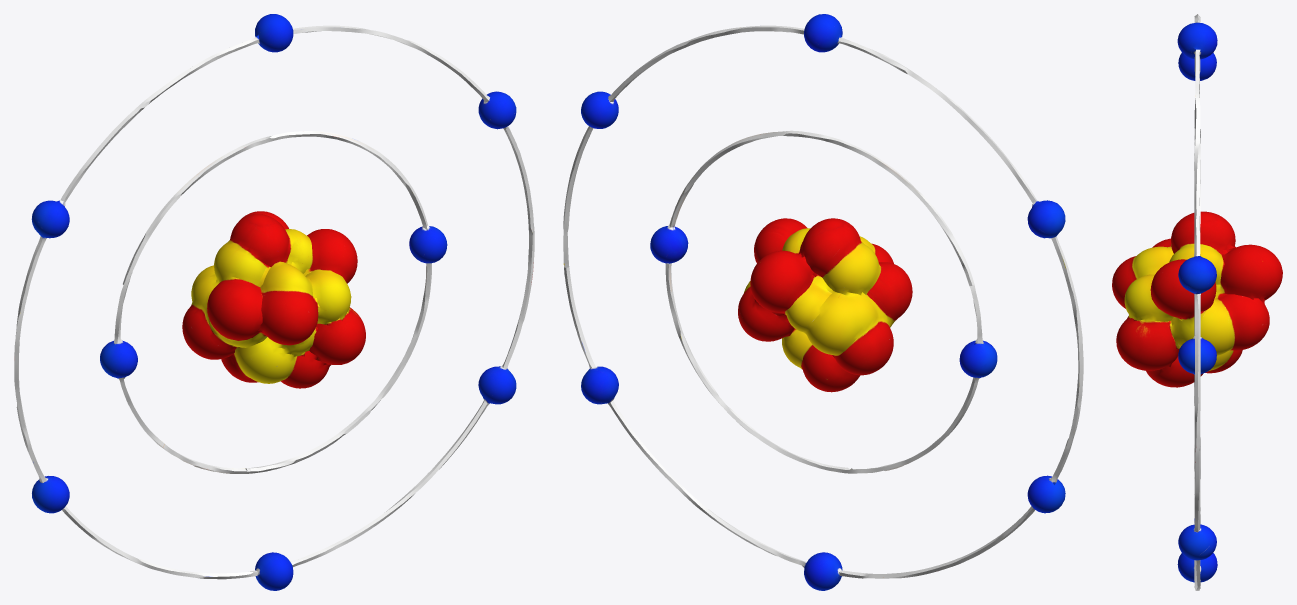
File: Meshy_AI_Oxygen_atom_0407061944_texture.fbx
The picture shows the model from 3 angles, left to right: view 1: azimuth 30°, elevation 25°; view 2: azimuth 150°, elevation 25°; view 3: azimuth 270°, elevation 25°; orthographic projection. The views are drawn at different scales.
Parts seen in each view (by area): view 1: output; view 2: output; view 3: output.
Boxes of the visible parts, <box> form: output: <box>14,14,534,590</box>; output: <box>563,14,1083,590</box>; output: <box>1112,14,1282,590</box>.
Size of the model in its own units: 182 by 191 by 53.17.
1 material, 1 textured.
